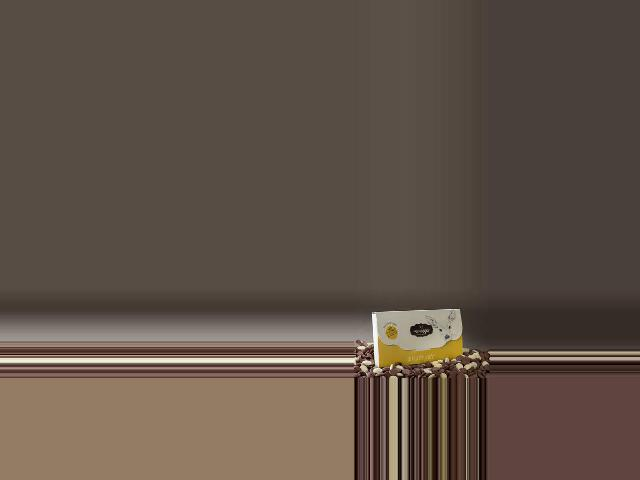chocolate: (367, 305, 468, 370)
